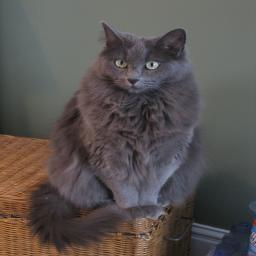catnose: (124, 75, 140, 86)
